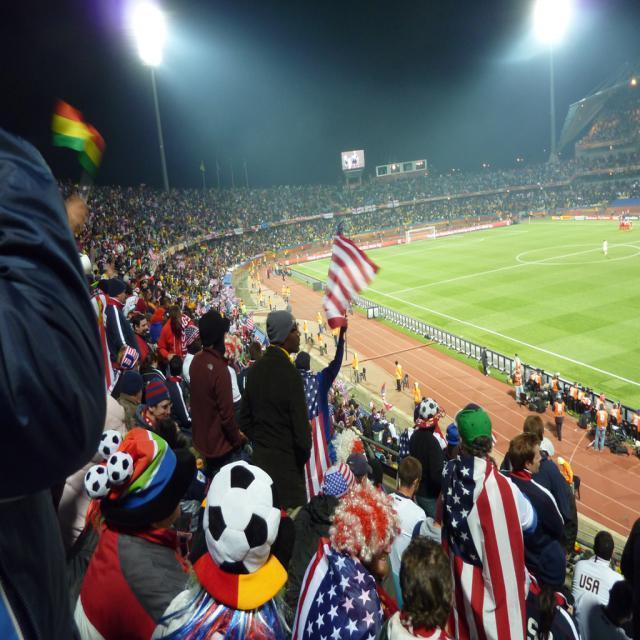ball: (203, 462, 282, 574), (417, 395, 440, 419)
